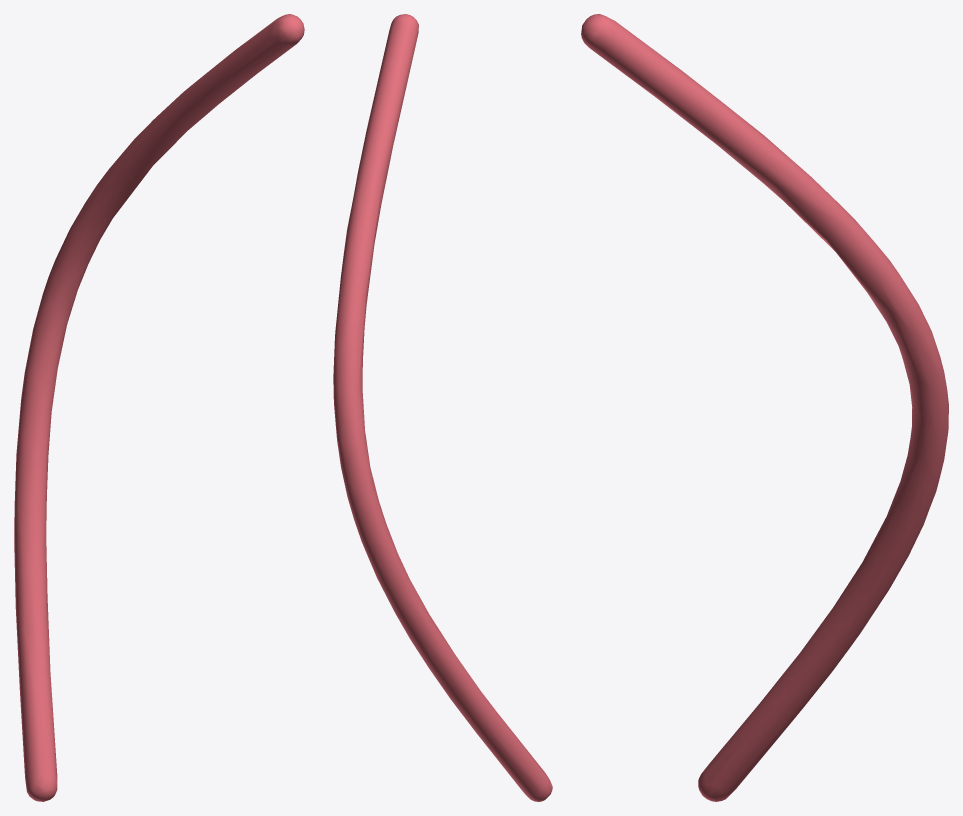
Rendered from fma4797_fj1986.glb.
3 renders of one model, left to right at view 1: azimuth 30°, elevation 25°; view 2: azimuth 150°, elevation 25°; view 3: azimuth 270°, elevation 25°, orthographic. The views are drawn at different scales.
Parts seen in each view (by area): view 1: FMA4797_FJ1986; view 2: FMA4797_FJ1986; view 3: FMA4797_FJ1986.
Part boxes in pixels (x1,y1,x2,y2): FMA4797_FJ1986: (14, 14, 304, 801); FMA4797_FJ1986: (333, 14, 552, 801); FMA4797_FJ1986: (581, 14, 948, 801).
Size of the model in its own units: 0.0159 by 0.0525 by 0.0196.
